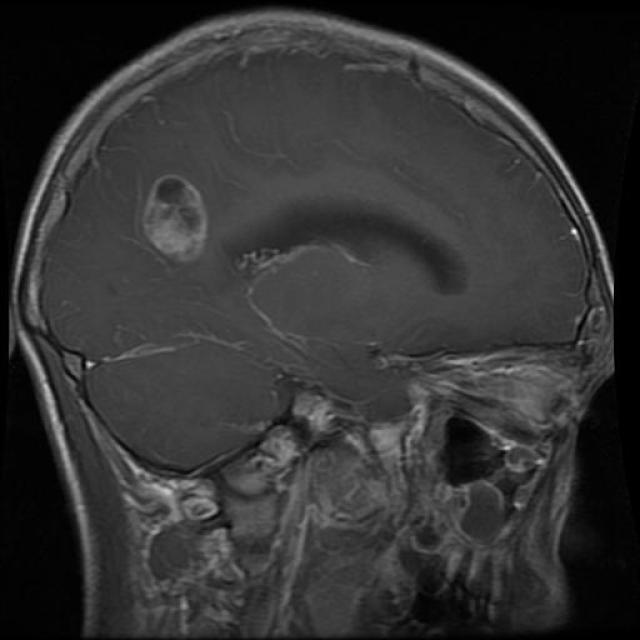glioma: (134, 172, 218, 262)
